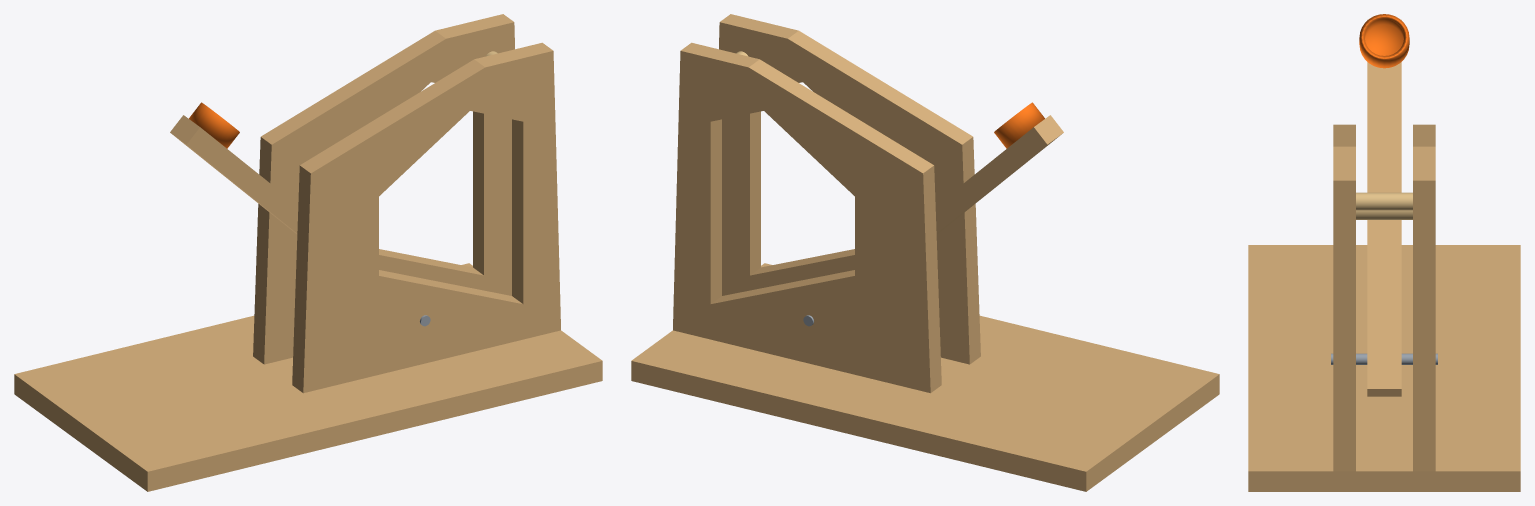
The model's file is Sample_Catapult.glb.
3 views of the same model, side by side, from view 1: azimuth 30°, elevation 25°; view 2: azimuth 150°, elevation 25°; view 3: azimuth 270°, elevation 25° (orthographic). The views are drawn at different scales.
Parts seen in each view (by area): view 1: Side Upright L, Base Plate, Side Upright R, Throwing Arm, Marble Cup (PLA); view 2: Side Upright R, Base Plate, Side Upright L, Throwing Arm, Marble Cup (PLA); view 3: Base Plate, Throwing Arm, Side Upright L, Side Upright R, Marble Cup (PLA), Band Hook Dowel, Stop Bar Dowel, Axle 1/4in.
Boxes of the visible parts, x1,y1,x2,y2 form: Side Upright L: [292, 42, 560, 393]; Base Plate: [14, 263, 602, 491]; Side Upright R: [253, 14, 514, 364]; Throwing Arm: [170, 115, 298, 234]; Marble Cup (PLA): [189, 102, 239, 148]; Side Upright R: [673, 42, 941, 393]; Base Plate: [631, 263, 1219, 491]; Side Upright L: [719, 14, 980, 364]; Throwing Arm: [935, 115, 1063, 234]; Marble Cup (PLA): [994, 102, 1044, 148]; Base Plate: [1248, 245, 1520, 491]; Throwing Arm: [1367, 19, 1401, 396]; Side Upright L: [1333, 124, 1355, 471]; Side Upright R: [1413, 124, 1435, 471]; Marble Cup (PLA): [1359, 14, 1409, 68]; Band Hook Dowel: [1356, 192, 1412, 210]; Stop Bar Dowel: [1356, 210, 1412, 219]; Axle 1/4in: [1331, 353, 1437, 364].
Size of the model in its own units: 0.3 by 0.1937 by 0.1524.
